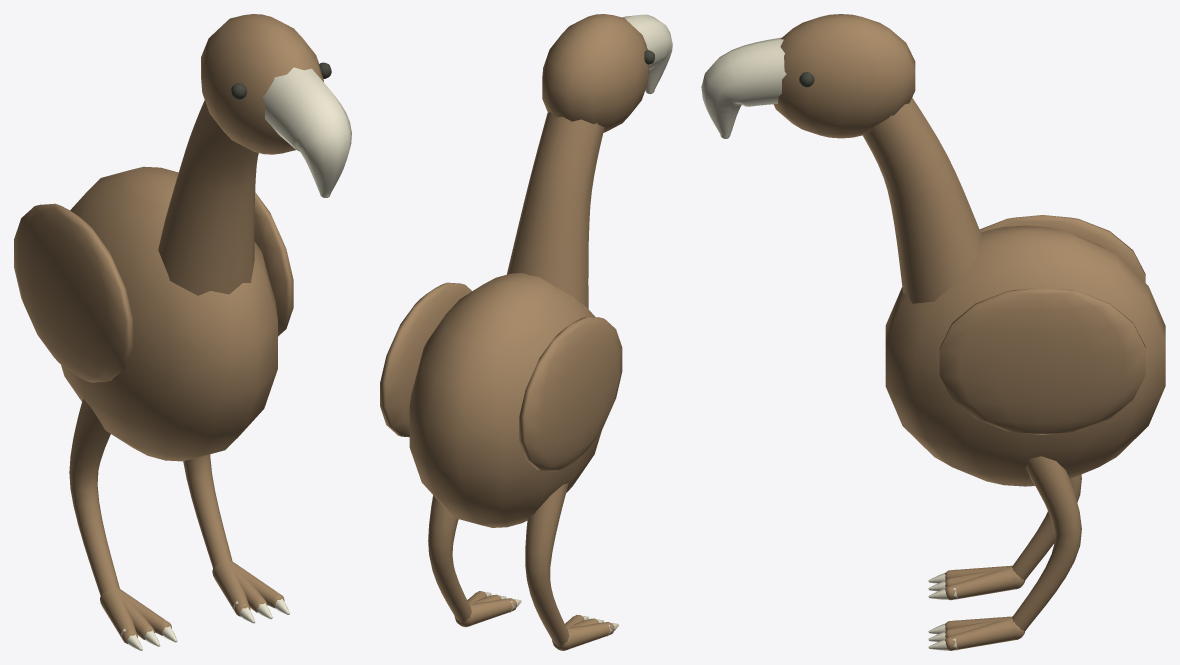
File: dinosaurs-and-prehistoric-life-terror-bird-5a067a40__4921.glb
The picture shows the model from 3 angles, left to right: view 1: azimuth 30°, elevation 25°; view 2: azimuth 150°, elevation 25°; view 3: azimuth 270°, elevation 25°; orthographic projection. The views are drawn at different scales.
Visible parts, largest first — view 1: terror-bird; view 2: terror-bird; view 3: terror-bird.
Part boxes in pixels (x1=…): terror-bird: x1=14, y1=14, x2=351, y2=650; terror-bird: x1=380, y1=14, x2=672, y2=650; terror-bird: x1=701, y1=14, x2=1165, y2=650.
Bounding box in the file's own units: 0.4926 × 1.57 × 1.1.
